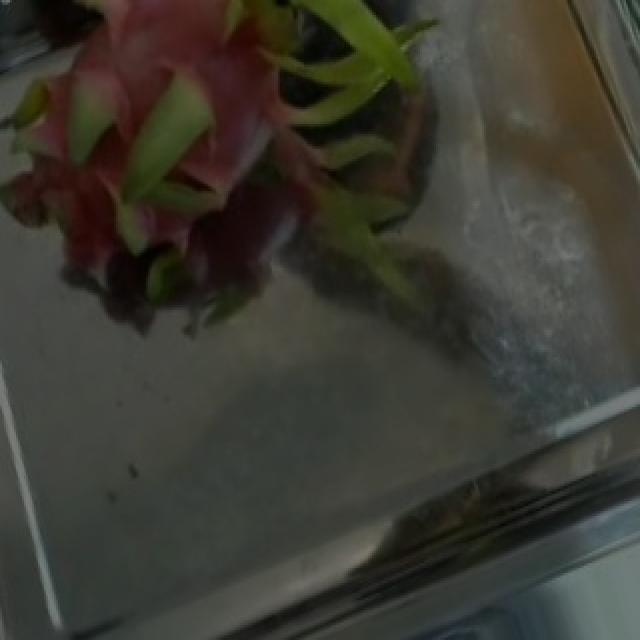fruit: (6, 0, 448, 389)
